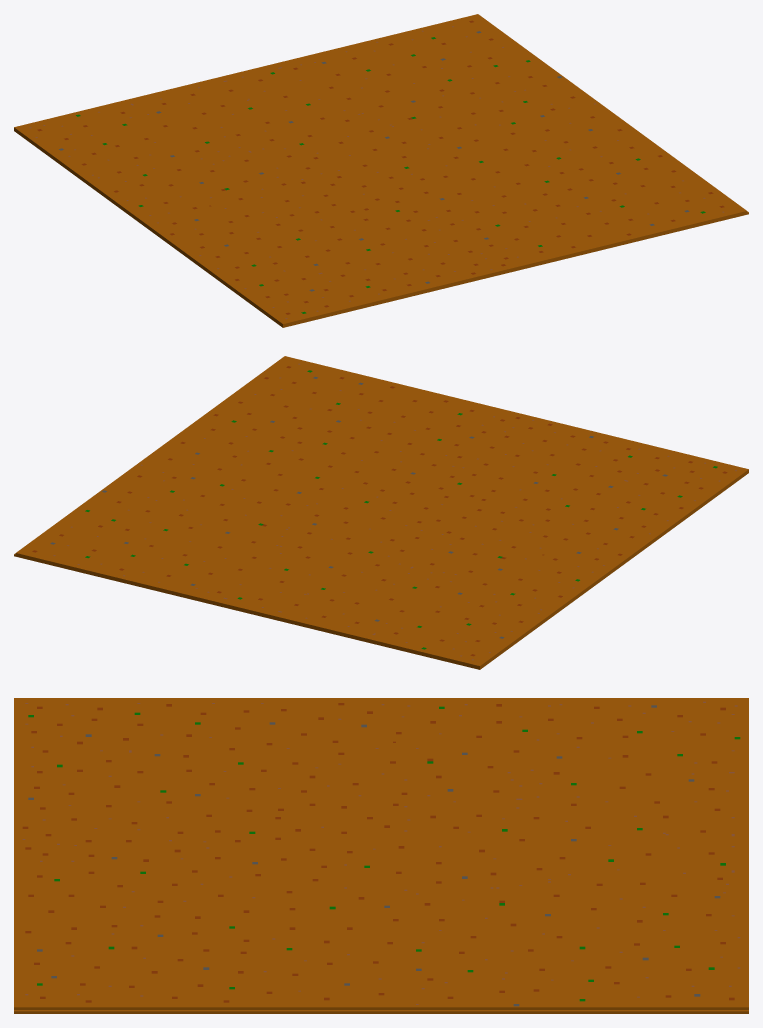
Rendered from Plano_Base.obj.
The picture shows the model from 3 angles, top to bottom: view 1: azimuth 30°, elevation 25°; view 2: azimuth 150°, elevation 25°; view 3: azimuth 270°, elevation 25°; orthographic projection. The views are drawn at different scales.
Bounding box in the file's own units: 25.6 × 0.2 × 25.6.
Materials: 1 (1 with a texture image).
